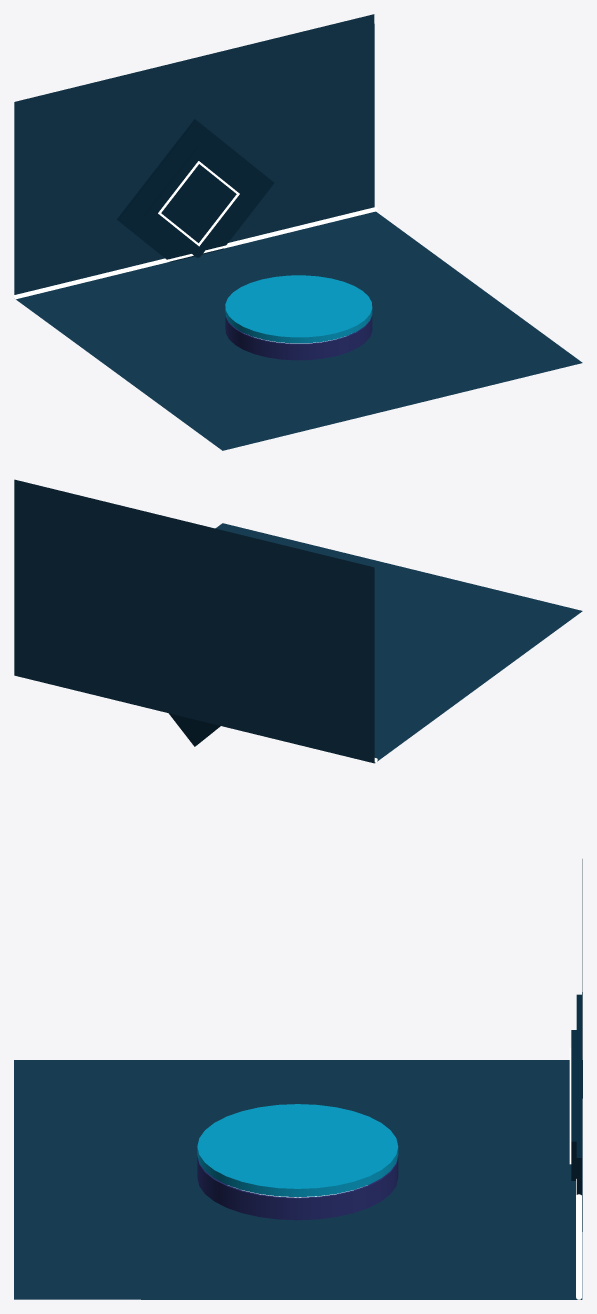
File: Product Showcase Podium (V1).glb
3 renders of one model, top to bottom at view 1: azimuth 30°, elevation 25°; view 2: azimuth 150°, elevation 25°; view 3: azimuth 270°, elevation 25°, orthographic. The views are drawn at different scales.
Visible parts, largest first — view 1: Plane, Cylinder.002, Cube, Cube.001, Cylinder.001, BezierCurve, Cube.002; view 2: Plane, Cube; view 3: Plane, Cylinder.002, Cylinder.001, Cube, Cube.001, BezierCurve.
Part boxes in pixels (bbox=[...]): Plane: bbox=[14, 14, 582, 450]; Cylinder.002: bbox=[225, 275, 372, 343]; Cube: bbox=[117, 119, 274, 262]; Cube.001: bbox=[143, 146, 251, 257]; Cylinder.001: bbox=[225, 312, 372, 360]; BezierCurve: bbox=[14, 207, 377, 299]; Cube.002: bbox=[158, 161, 239, 246]; Plane: bbox=[14, 479, 582, 763]; Cube: bbox=[169, 713, 220, 746]; Plane: bbox=[14, 859, 582, 1299]; Cylinder.002: bbox=[197, 1104, 398, 1197]; Cylinder.001: bbox=[197, 1156, 398, 1220]; Cube: bbox=[576, 994, 581, 1195]; Cube.001: bbox=[571, 1030, 576, 1180]; BezierCurve: bbox=[576, 1179, 581, 1299].
Bounding box in the file's own units: 5.67 × 3.35 × 5.66.
